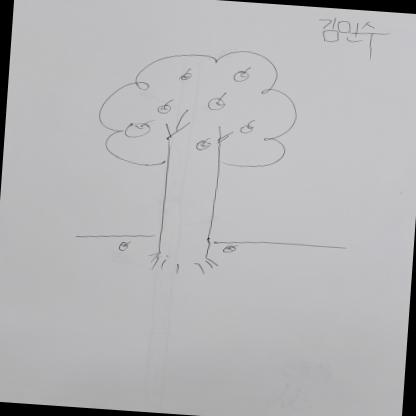apple: (122, 119, 154, 142), (204, 94, 226, 112), (232, 68, 252, 85), (192, 138, 212, 152), (174, 70, 196, 82), (240, 122, 258, 136), (113, 239, 132, 252), (156, 102, 172, 116), (223, 243, 238, 255)
branch_line: (152, 109, 236, 153)
crown_cloud: (96, 39, 300, 175)
root_upside: (135, 230, 246, 284)
trunk_straight: (152, 168, 228, 230)
